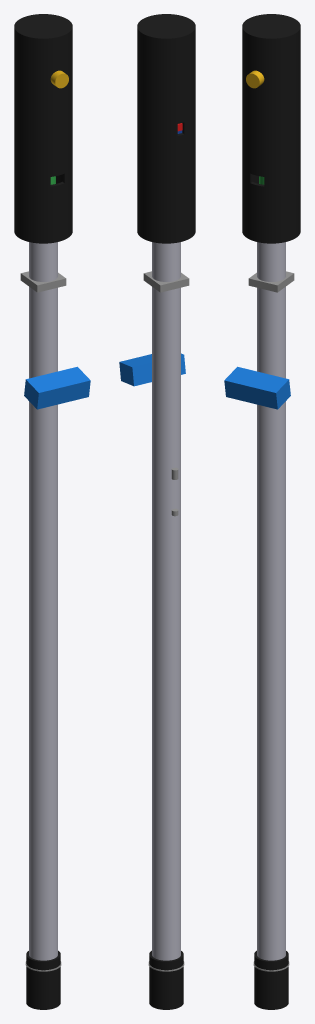
File: safecane.glb
3 views of the same model, side by side, from view 1: azimuth 30°, elevation 25°; view 2: azimuth 210°, elevation 25°; view 3: azimuth 330°, elevation 25° (orthographic).
Visible parts, largest first — view 1: tubo, mango_b, mango_a, hcsr04, contera, gps, pulsador; view 2: tubo, mango_a, mango_b, contera, hcsr04, gps; view 3: tubo, mango_a, hcsr04, mango_b, contera, gps, pulsador.
Boxes of the visible parts, x1,y1,x2,y2 form: tubo: (29, 242, 57, 960); mango_b: (14, 14, 68, 243); mango_a: (19, 14, 72, 243); hcsr04: (24, 366, 90, 409); contera: (26, 950, 60, 1009); gps: (20, 271, 66, 292); pulsador: (50, 70, 68, 88); tubo: (152, 242, 180, 960); mango_a: (137, 14, 191, 243); mango_b: (141, 14, 195, 243); contera: (149, 950, 183, 1009); hcsr04: (119, 353, 185, 386); gps: (143, 271, 189, 292); tubo: (257, 242, 285, 960); mango_a: (246, 14, 300, 243); hcsr04: (224, 366, 290, 409); mango_b: (242, 14, 294, 242); contera: (254, 950, 288, 1009); gps: (248, 271, 294, 292); pulsador: (246, 70, 264, 88).
Size of the model in its own units: 45 by 810 by 54.
